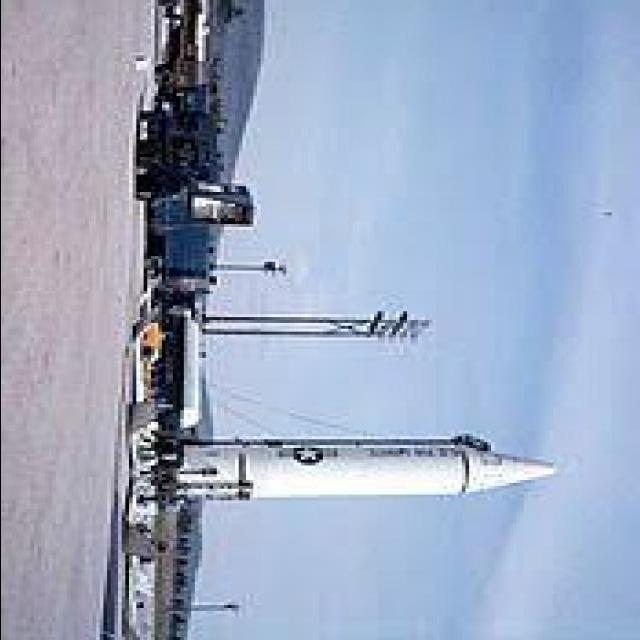missile: (165, 436, 562, 503)
